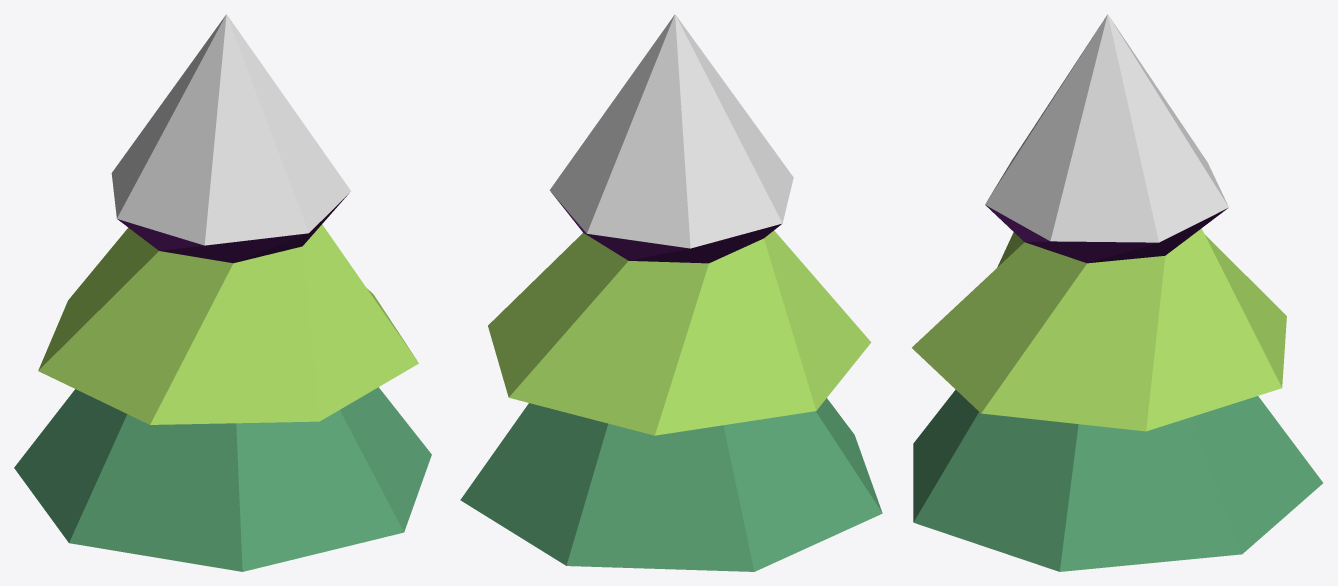
Rendered from tree.glb.
3 renders of one model, left to right at view 1: azimuth 30°, elevation 25°; view 2: azimuth 150°, elevation 25°; view 3: azimuth 270°, elevation 25°, orthographic.
Parts seen in each view (by area): view 1: tree; view 2: tree; view 3: tree.
Part boxes in pixels (box(x1,y1,x2,y2)): tree: box(14, 14, 431, 571); tree: box(460, 14, 882, 571); tree: box(912, 14, 1322, 571).
Bounding box in the file's own units: 4.35 × 5.95 × 4.26.
